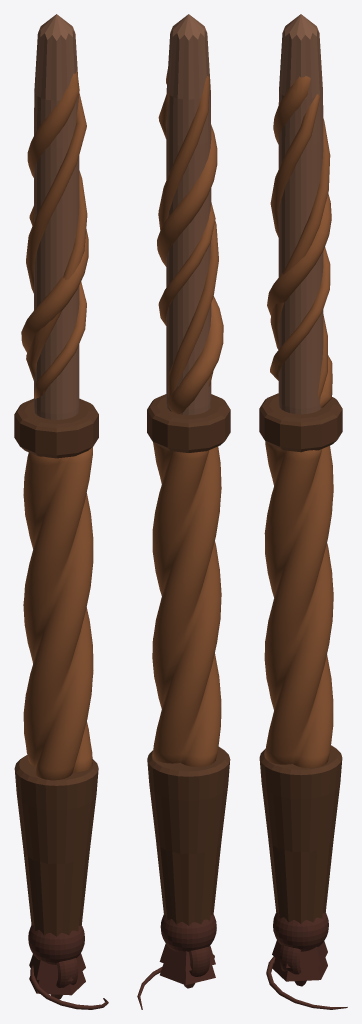
The model's file is Wand 878.glb.
3 renders of one model, left to right at view 1: azimuth 30°, elevation 25°; view 2: azimuth 210°, elevation 25°; view 3: azimuth 330°, elevation 25°, orthographic.
Visible parts, largest first — view 1: GeneratedWand, Pommel_4, Pommel_9, Pommel_2, Pommel_10; view 2: GeneratedWand, Pommel_4, Pommel_9, Pommel_2; view 3: GeneratedWand, Pommel_4, Pommel_9, Pommel_2, Pommel_10.
Boxes of the visible parts, x1=… form: GeneratedWand: x1=14, y1=14, x2=98, y2=981; Pommel_4: x1=28, y1=925, x2=84, y2=964; Pommel_9: x1=29, y1=971, x2=85, y2=995; Pommel_2: x1=56, y1=958, x2=78, y2=987; Pommel_10: x1=30, y1=965, x2=108, y2=1009; GeneratedWand: x1=147, y1=14, x2=230, y2=971; Pommel_4: x1=160, y1=914, x2=216, y2=952; Pommel_9: x1=160, y1=963, x2=215, y2=985; Pommel_2: x1=188, y1=947, x2=209, y2=976; GeneratedWand: x1=259, y1=14, x2=342, y2=967; Pommel_4: x1=273, y1=912, x2=328, y2=951; Pommel_9: x1=272, y1=958, x2=327, y2=981; Pommel_2: x1=279, y1=945, x2=301, y2=974; Pommel_10: x1=266, y1=956, x2=347, y2=1009.
Bounding box in the file's own units: 0.0457 × 0.5158 × 0.0401.
